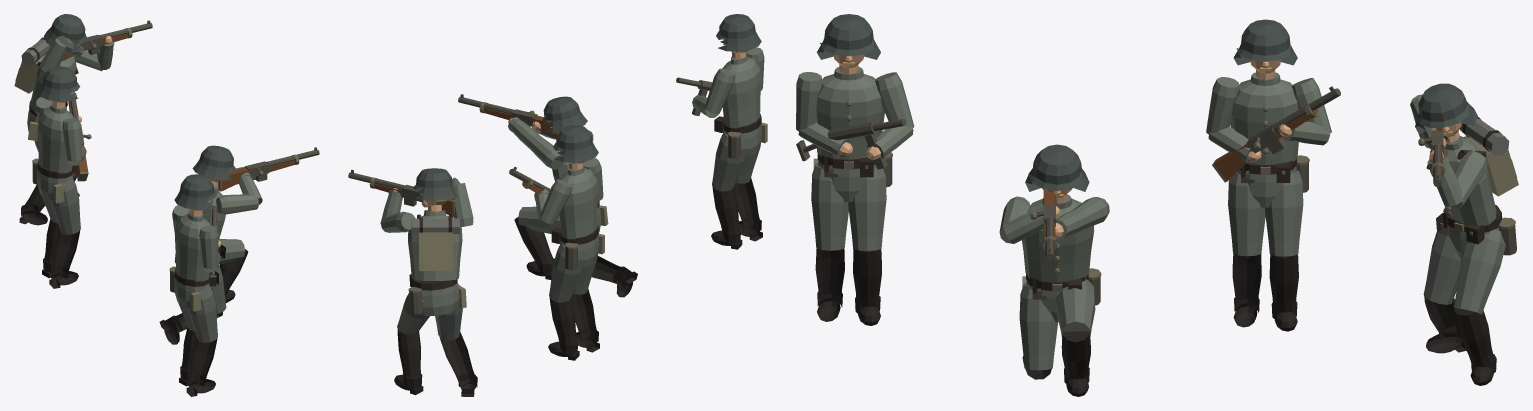
Rendered from de_grenadiers.obj.
The picture shows the model from 3 angles, left to right: view 1: azimuth 30°, elevation 25°; view 2: azimuth 150°, elevation 25°; view 3: azimuth 270°, elevation 25°; orthographic projection. The views are drawn at different scales.
Bounding box in the file's own units: 1.95 × 2 × 4.04.
